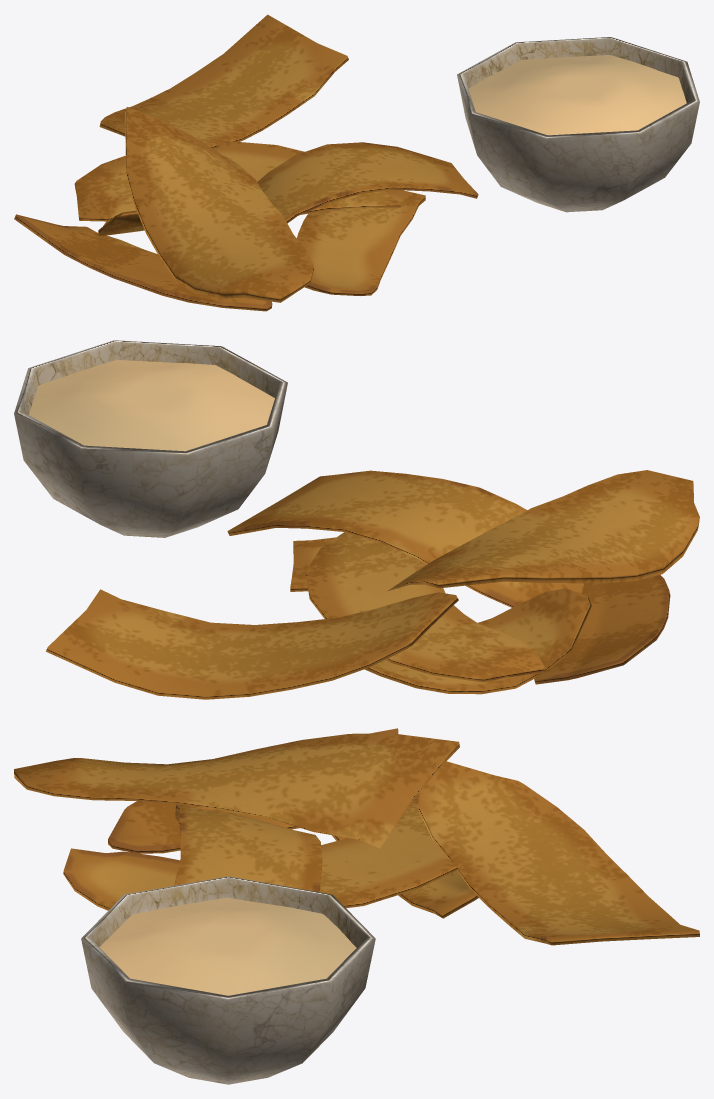
File: arracacha4.glb
The picture shows the model from 3 angles, top to bottom: view 1: azimuth 30°, elevation 25°; view 2: azimuth 150°, elevation 25°; view 3: azimuth 270°, elevation 25°; orthographic projection. The views are drawn at different scales.
Parts seen in each view (by area): view 1: polySurface22, pDisc3; view 2: polySurface22, pDisc3; view 3: polySurface22, pDisc3.
Part boxes in pixels (x1,y1,x2,y2): polySurface22: (14,14,478,311); pDisc3: (457,37,699,212); polySurface22: (46,470,699,699); pDisc3: (14,340,287,537); polySurface22: (14,728,699,945); pDisc3: (81,876,375,1084).
Size of the model in its own units: 1.91 by 0.3249 by 1.62.
3 materials, 3 textured.
